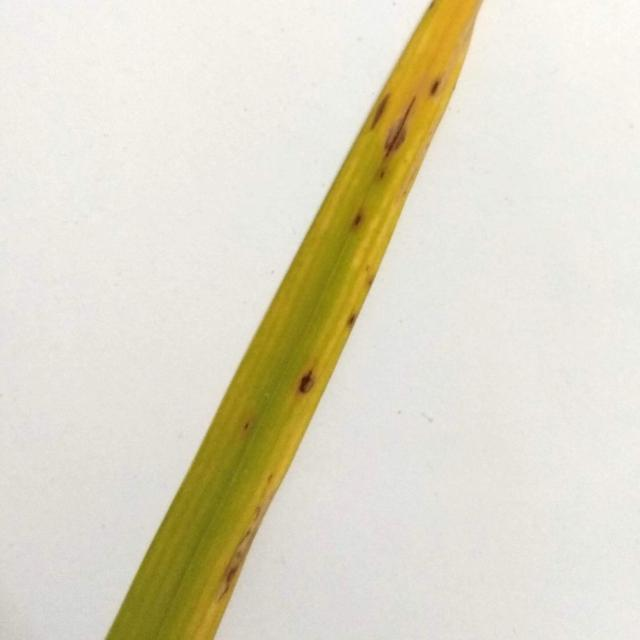Brown spot: (94, 0, 536, 640)
